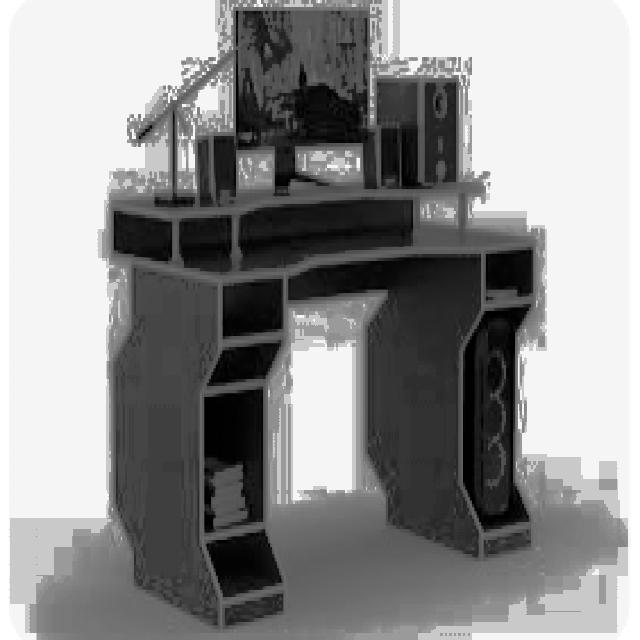table: (111, 179, 536, 629)
